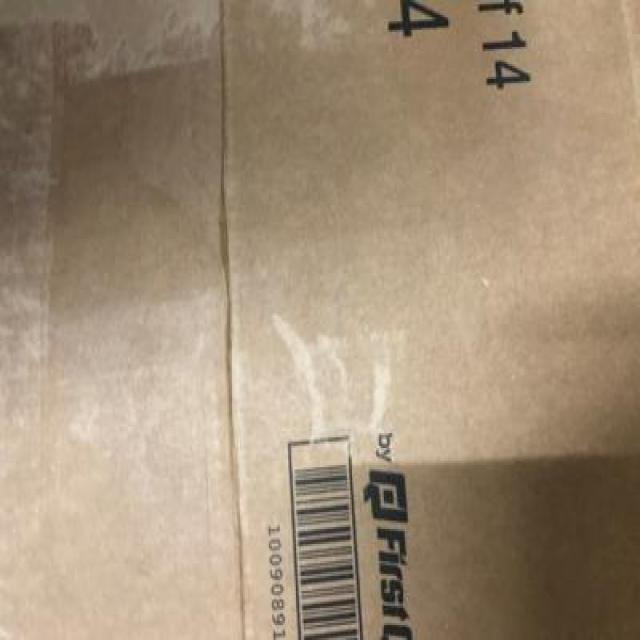PaperCardboard: (1, 3, 640, 632)
